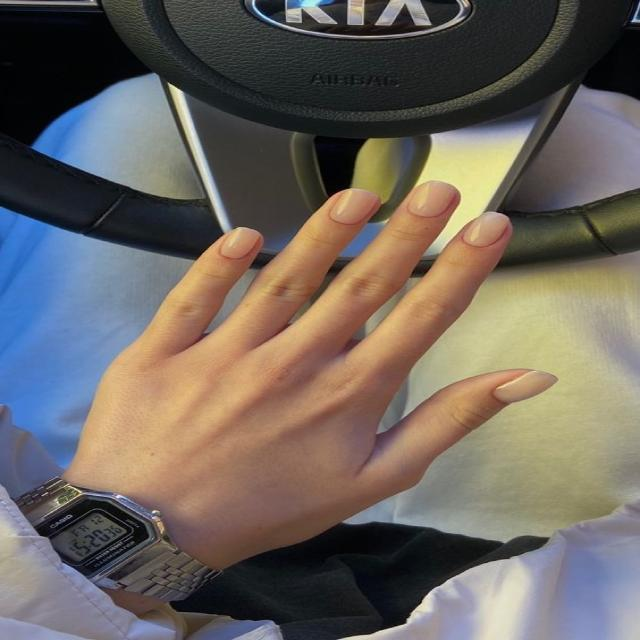Fingernail: (494, 371, 558, 405), (330, 190, 376, 225), (463, 212, 509, 247), (409, 183, 456, 217), (220, 228, 259, 259)
